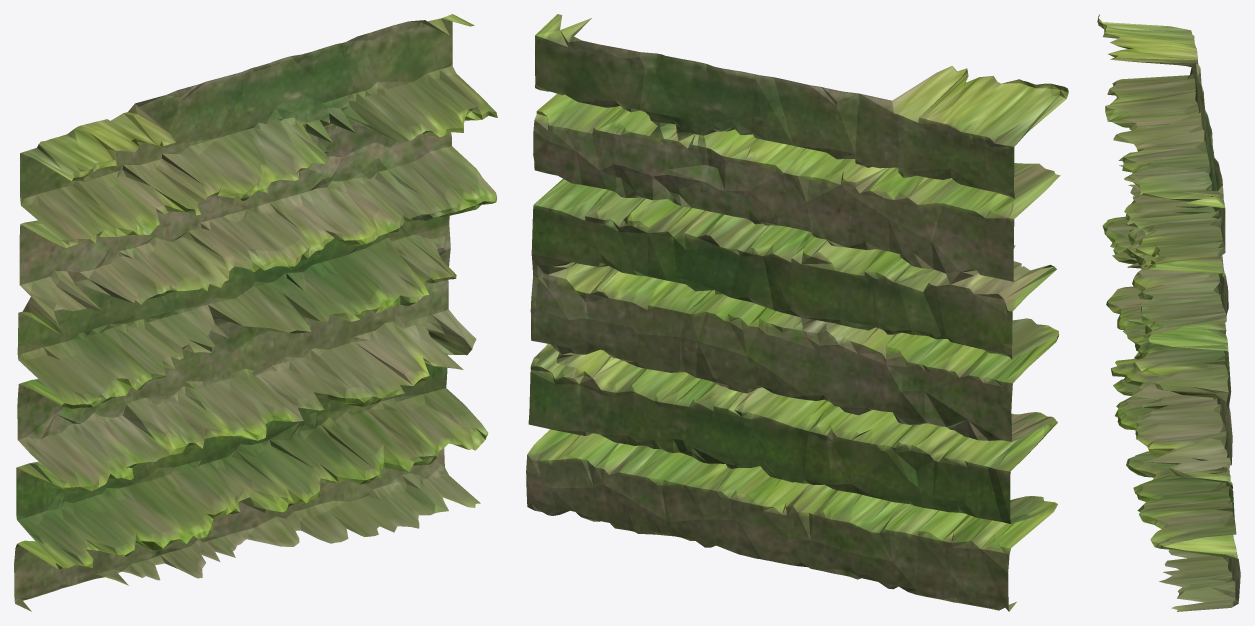
Rendered from map_190_70.obj.
The picture shows the model from 3 angles, left to right: view 1: azimuth 30°, elevation 25°; view 2: azimuth 150°, elevation 25°; view 3: azimuth 270°, elevation 25°; orthographic projection. The views are drawn at different scales.
Visible parts, largest first — view 1: grp1; view 2: grp1; view 3: grp1.
Boxes of the visible parts, <box> form: grp1: <box>14,14,497,611</box>; grp1: <box>526,14,1068,611</box>; grp1: <box>1097,14,1240,611</box>.
Bounding box in the file's own units: 10 × 10 × 3.18.
1 material, 1 textured.
